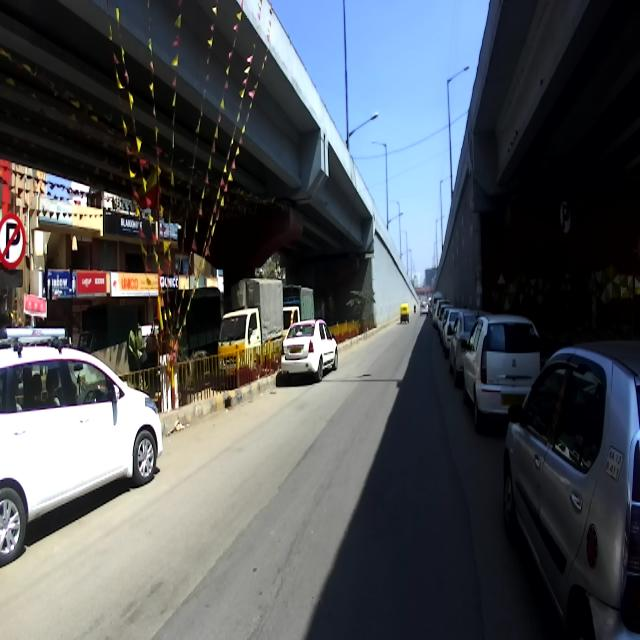car ahead at: (0, 324, 163, 537), (462, 312, 539, 409), (282, 319, 335, 382)
